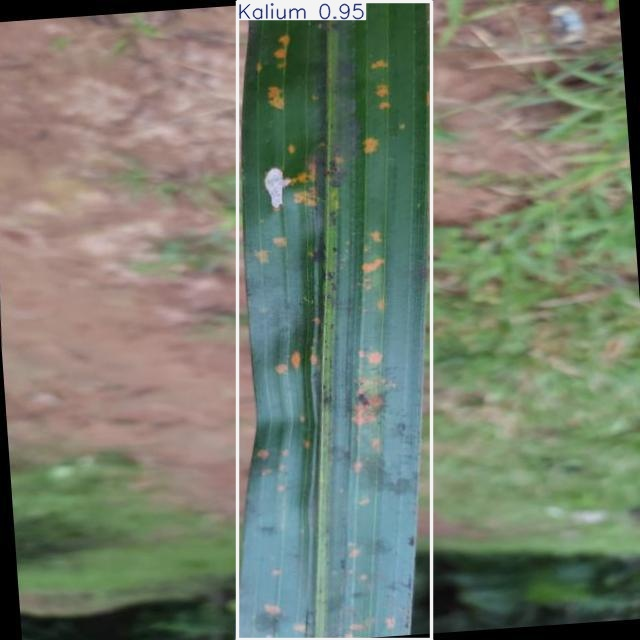Kalium: (237, 1, 432, 639)
